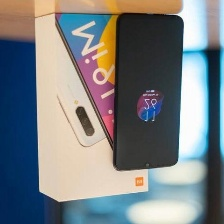book: (28, 9, 154, 204)
phone: (109, 10, 186, 176)
